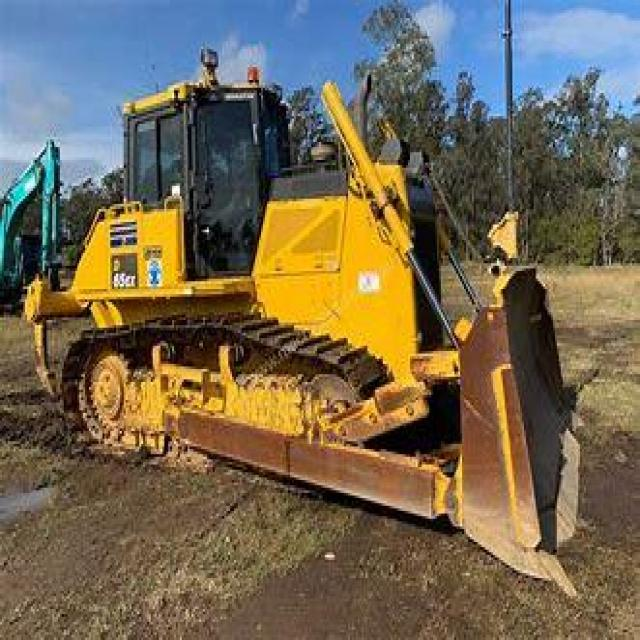Bulldozer: (14, 44, 611, 596)
